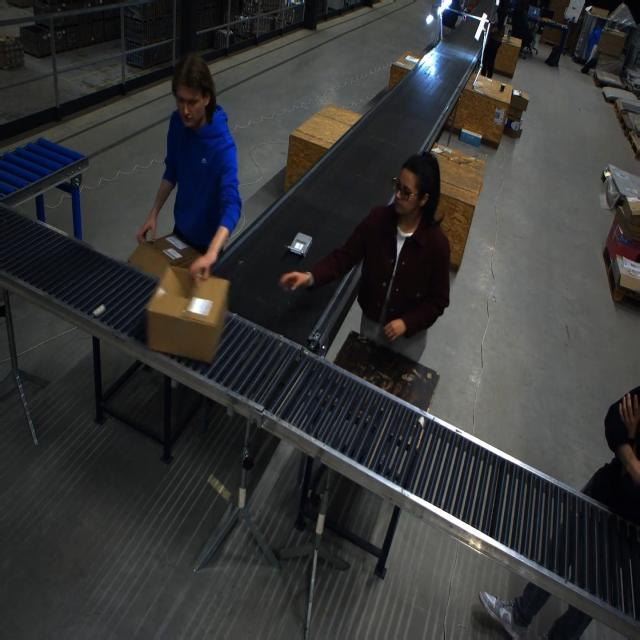box: (144, 267, 230, 361), (125, 232, 204, 278), (597, 28, 626, 56), (508, 86, 530, 116), (539, 21, 564, 46), (503, 117, 523, 139)
product: (286, 232, 313, 258)
